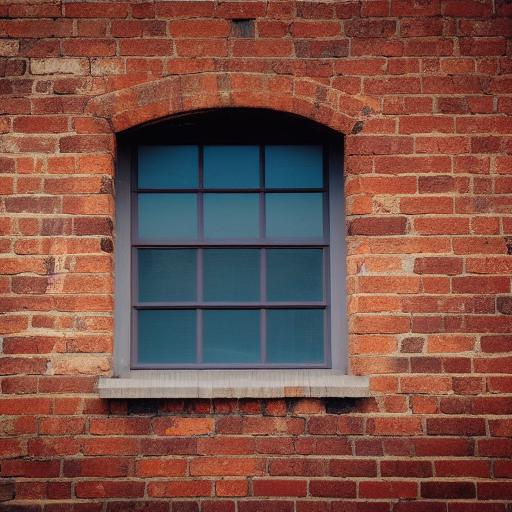Window: (88, 72, 377, 403)
